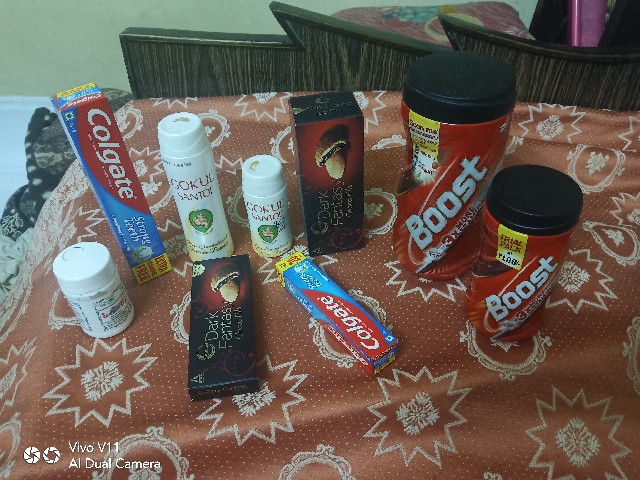boost big: (391, 34, 509, 282)
boost small: (470, 153, 593, 359)
colgatetoothpaste big: (51, 67, 171, 286)
colgatetoothpaste small: (275, 246, 404, 384)
darkfantasy big: (285, 73, 382, 256)
darkfantasy small: (179, 254, 269, 399)
gokulsantol big: (153, 81, 231, 259)
gokulsantol small: (236, 137, 291, 256)
lgasafoetidapowder small: (50, 236, 132, 340)
